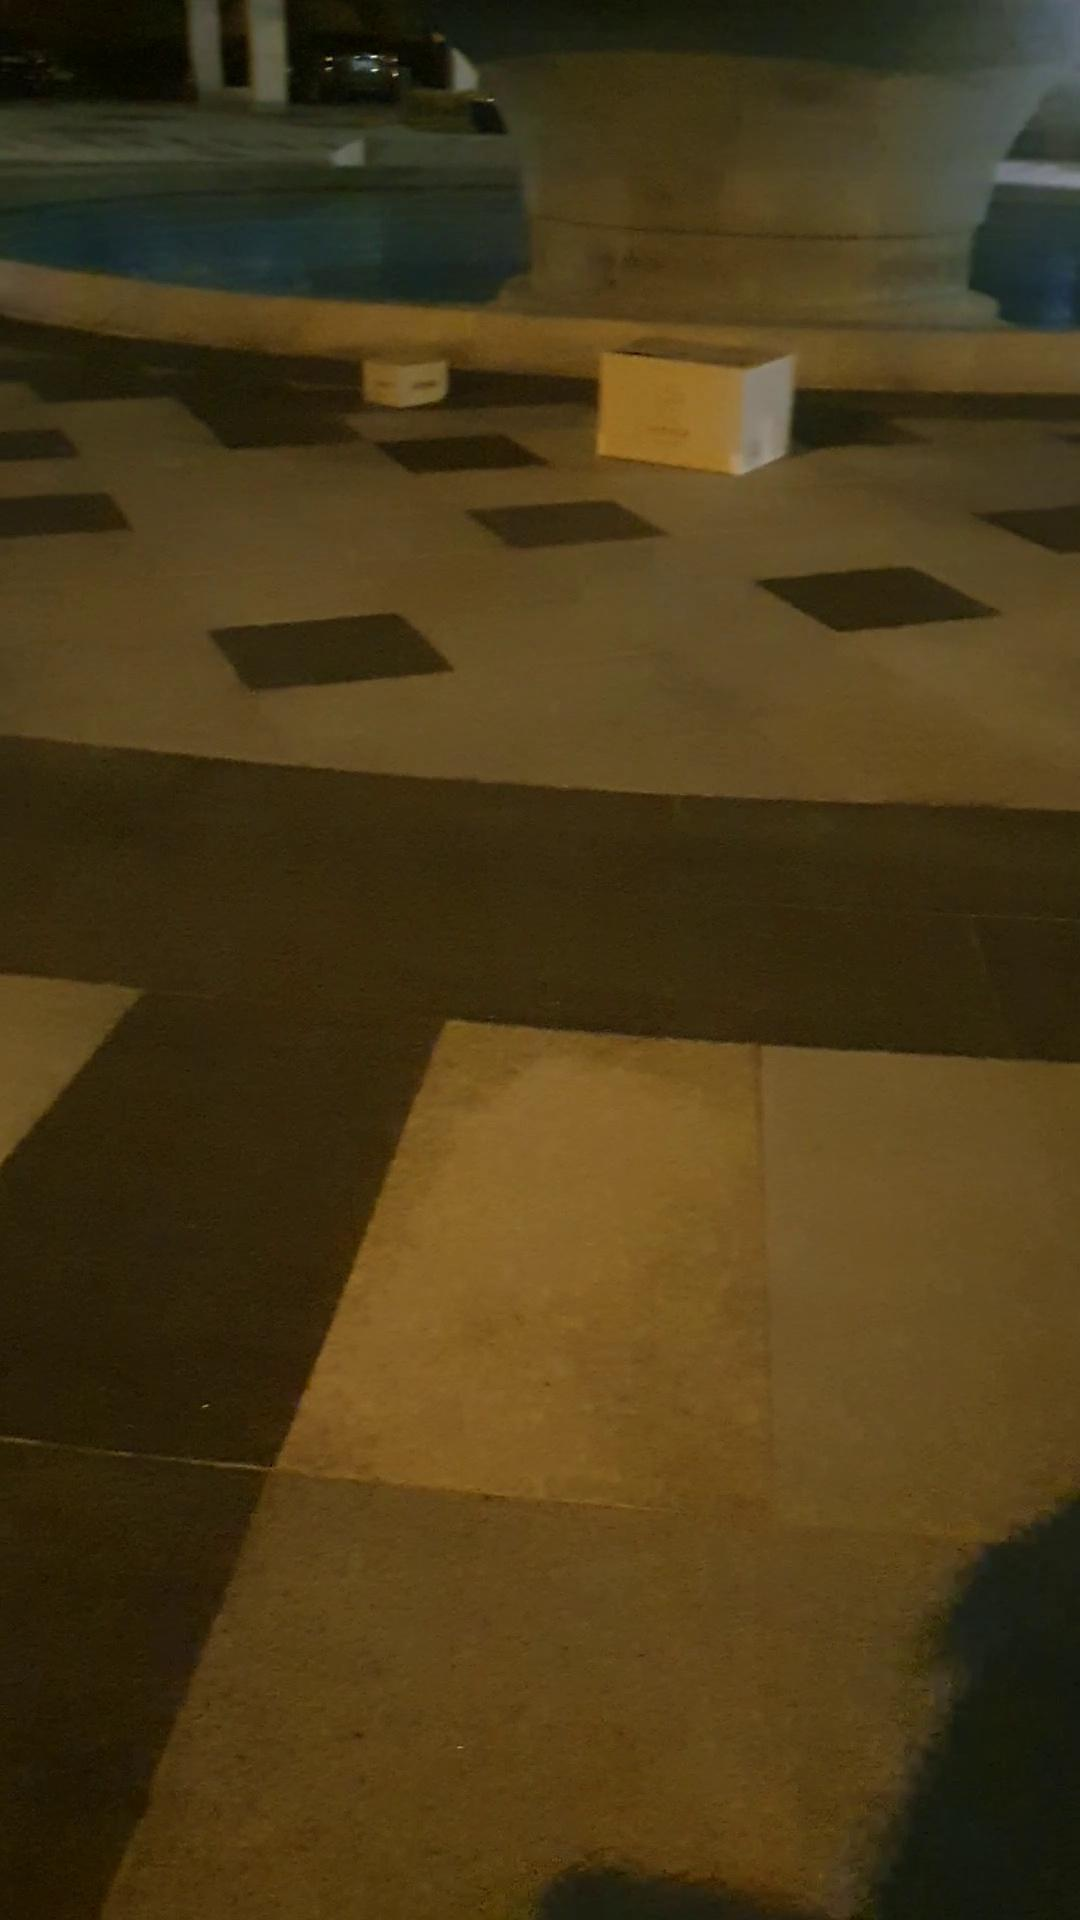Box: (563, 328, 802, 480), (345, 338, 458, 413)
